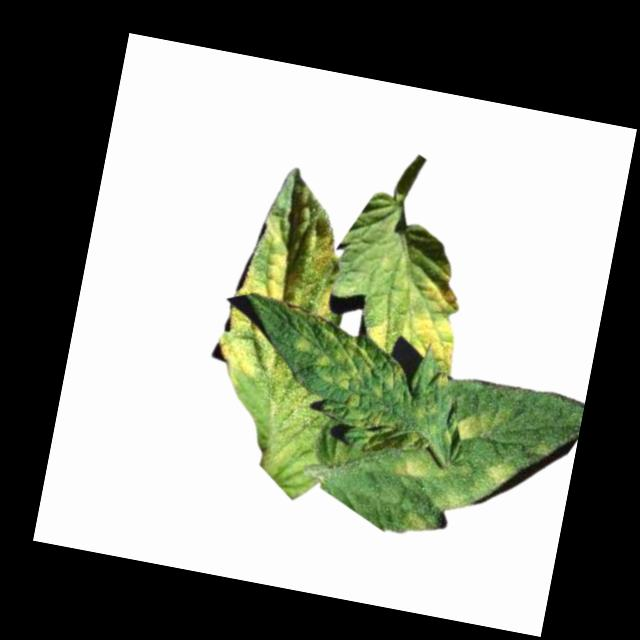Leaf_Mold: (279, 305, 418, 430), (362, 249, 476, 376), (237, 203, 351, 315), (211, 298, 290, 392), (454, 404, 501, 449), (394, 450, 444, 487), (481, 456, 523, 493), (401, 503, 440, 536)
